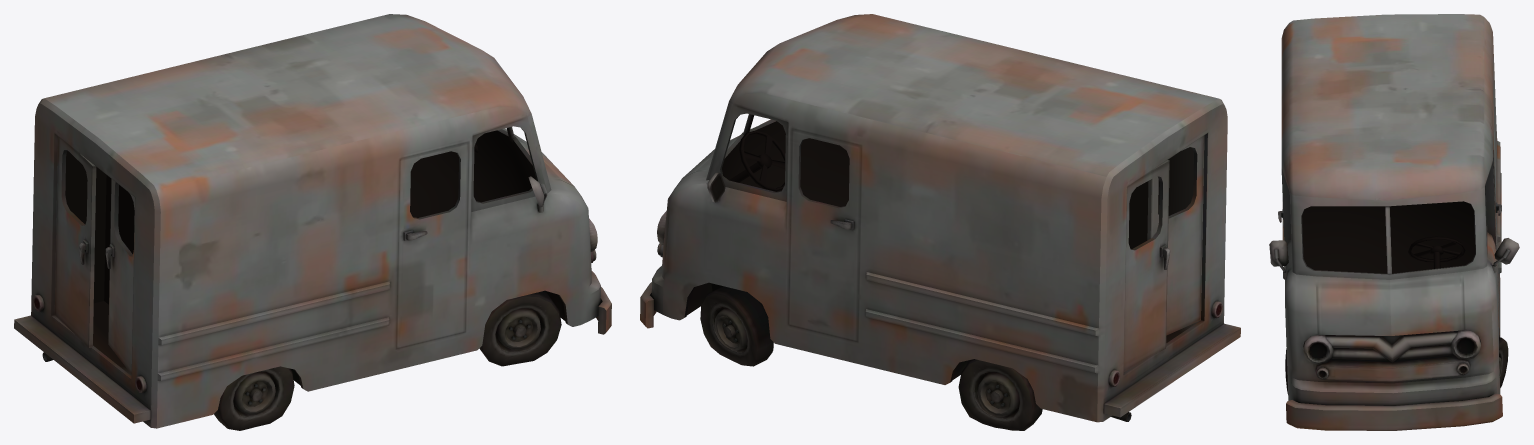
The picture shows the model from 3 angles, left to right: view 1: azimuth 30°, elevation 25°; view 2: azimuth 150°, elevation 25°; view 3: azimuth 270°, elevation 25°; orthographic projection. The views are drawn at different scales.
Visible parts, largest first — view 1: body0_model0_lod0_mesh0; view 2: body0_model0_lod0_mesh0; view 3: body0_model0_lod0_mesh0.
Boxes of the visible parts, <box> form: body0_model0_lod0_mesh0: <box>14,14,611,430</box>; body0_model0_lod0_mesh0: <box>640,14,1240,430</box>; body0_model0_lod0_mesh0: <box>1269,14,1519,430</box>.
Size of the model in its own units: 214 by 115 by 110.
Materials: 1 (1 with a texture image).
